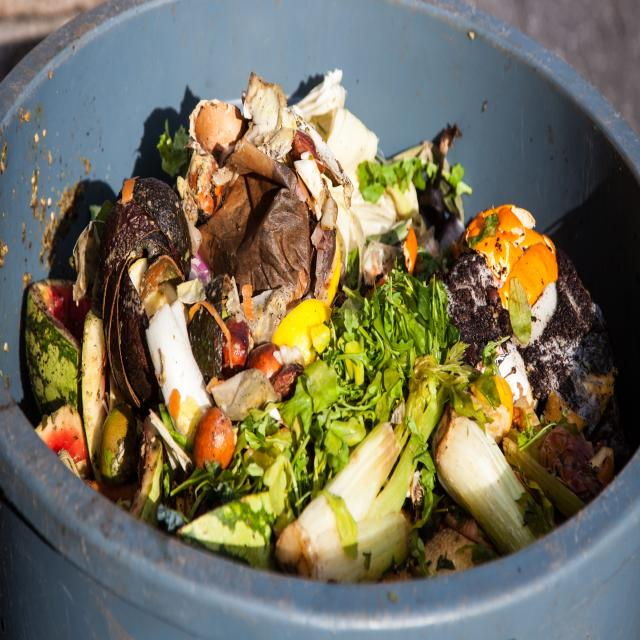Wet: (322, 274, 444, 428), (471, 198, 566, 316), (21, 276, 83, 409), (35, 399, 91, 468), (194, 408, 235, 476)
